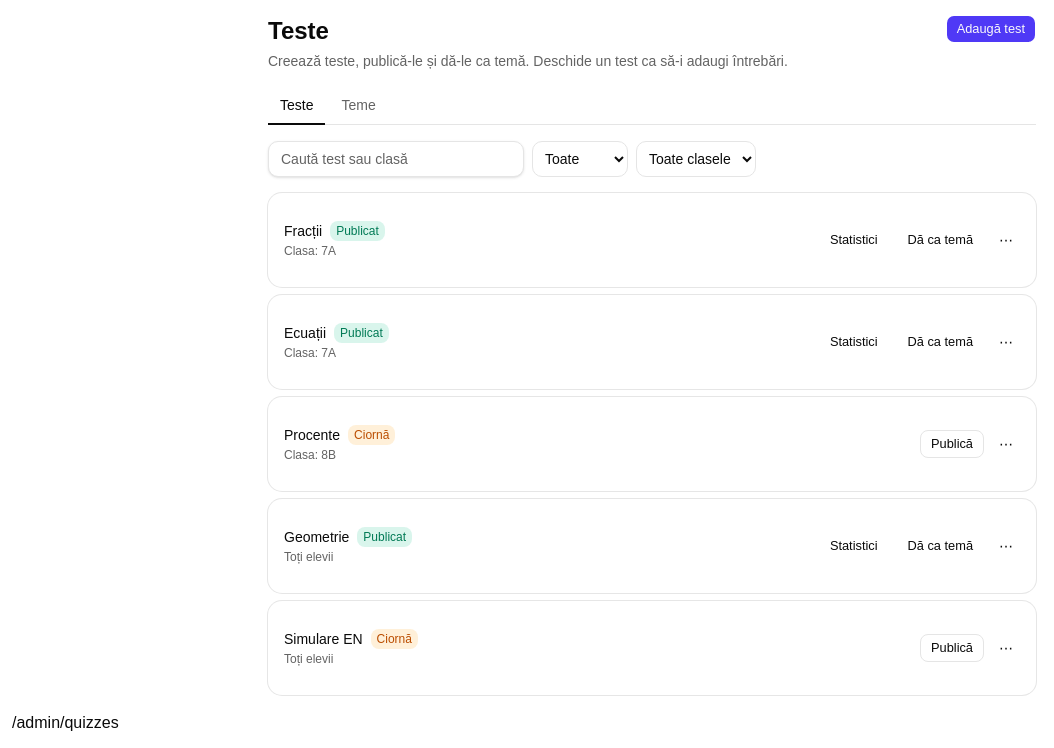
Test: AdminQuizzesPage › searches and filters the list once there are five tests
Expected: the link "Fracții" is shown, top-left (284, 221), bottom-right (322, 241)
Select "Ciorne" in the dropdown named "Stare": (580, 159) top-left (532, 141), bottom-right (628, 177)
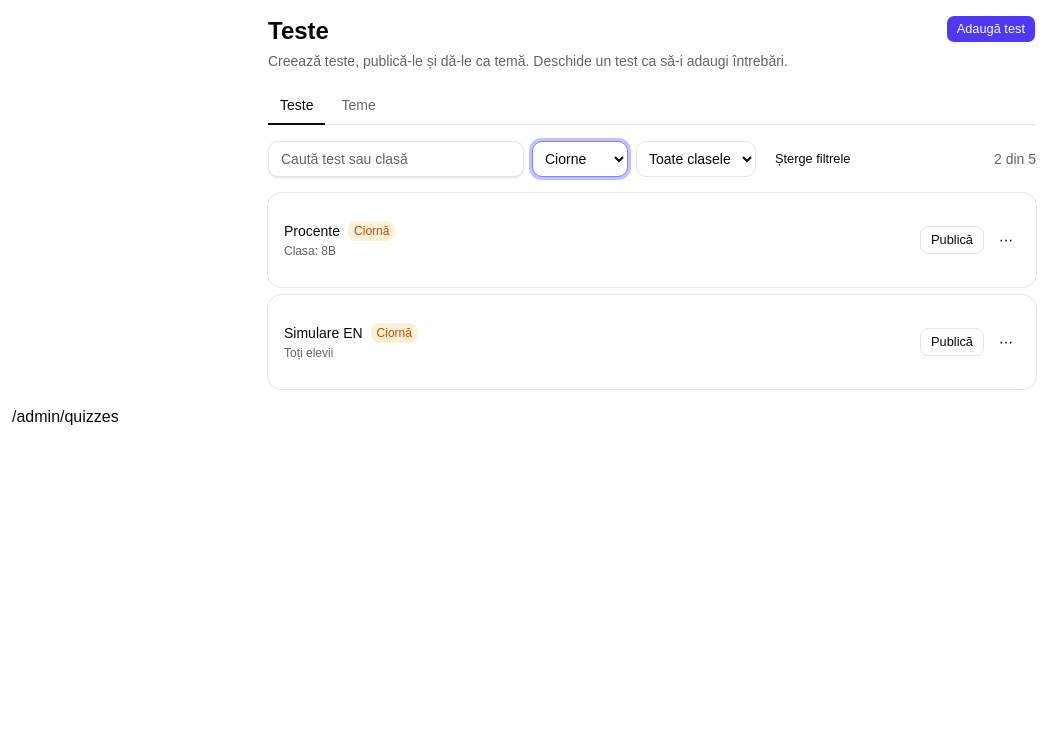
Expected: the number of elements with test id "quiz-row" is 2, top-left (284, 221), bottom-right (1020, 258); top-left (284, 323), bottom-right (1020, 360)
Select "8B" in the dropdown named "Clasa": (696, 159) top-left (636, 141), bottom-right (756, 177)
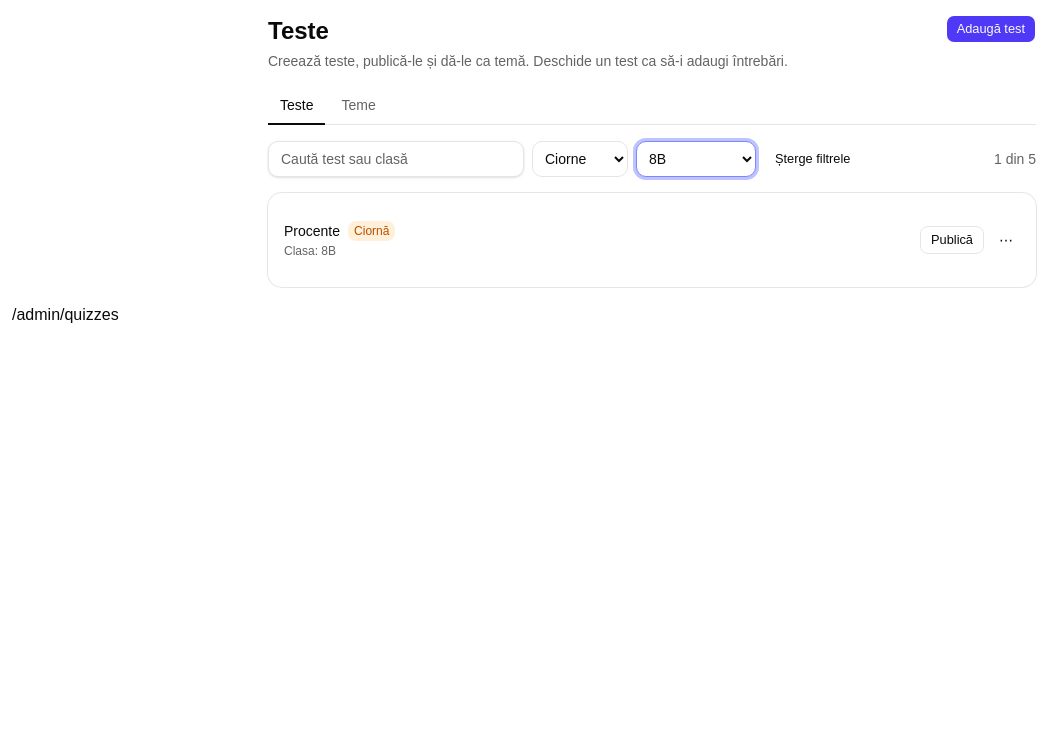
Expected: the link "Procente" is shown, top-left (284, 221), bottom-right (340, 241)
Expected: the number of elements with test id "quiz-row" is 1, top-left (284, 221), bottom-right (1020, 258)
Click the button "Șterge filtrele": (813, 159) top-left (764, 145), bottom-right (861, 173)
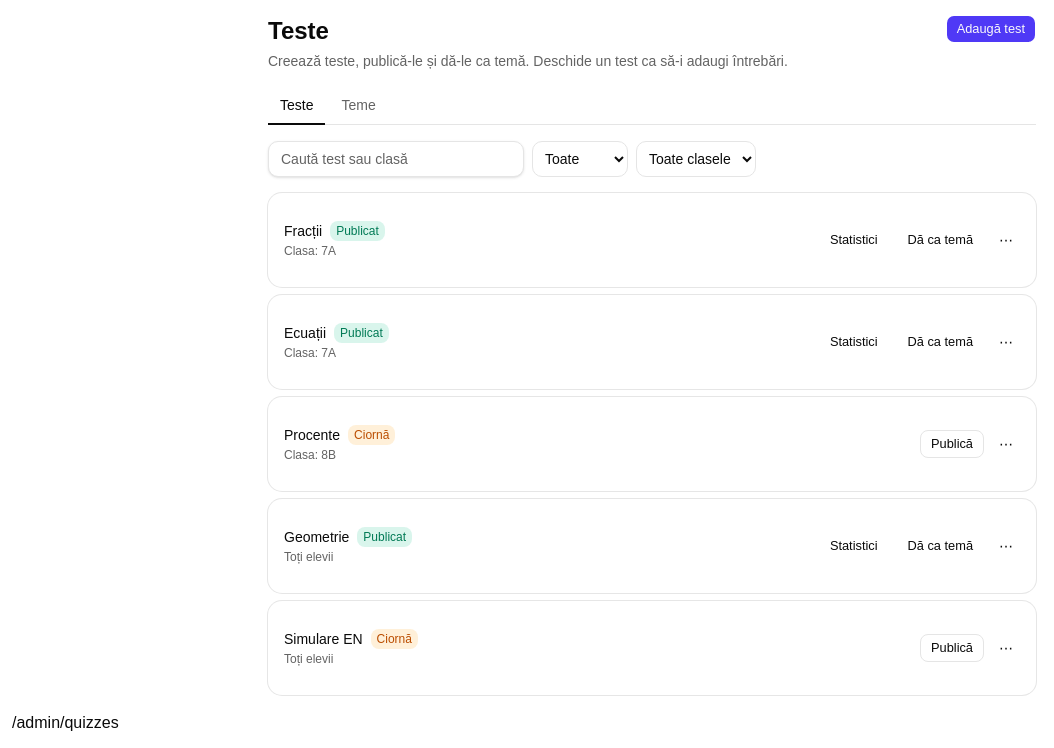
In the search field labelled "Caută test sau clasă": (396, 159) top-left (268, 141), bottom-right (524, 177), type "ecuatii"
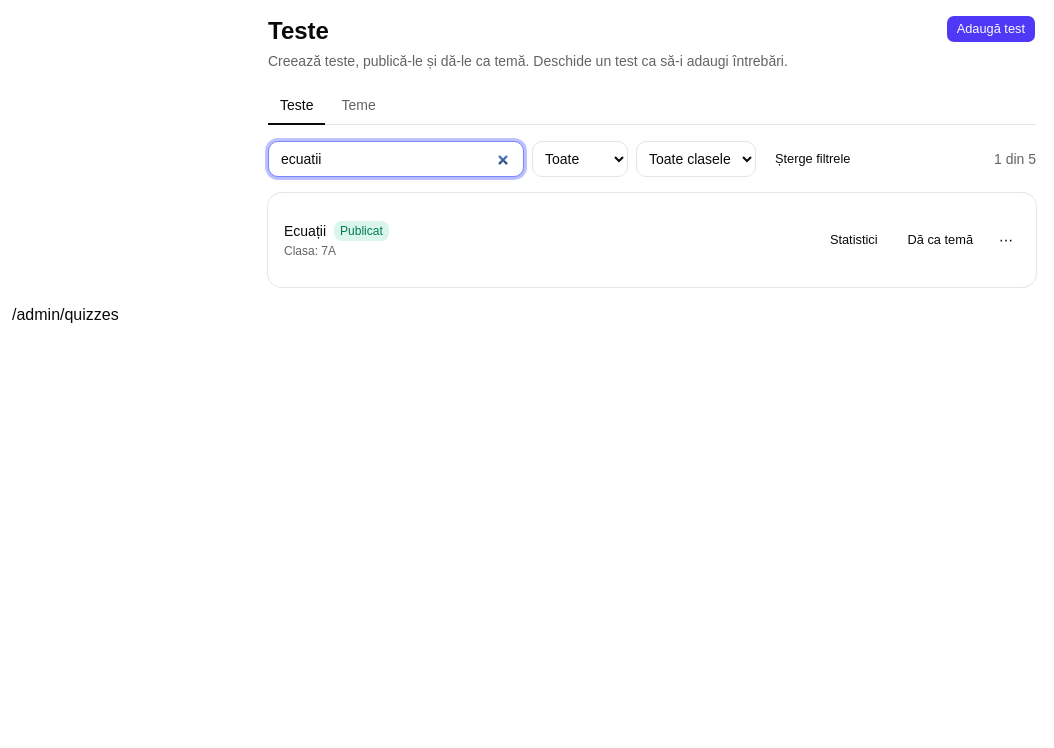
Expected: the number of elements with test id "quiz-row" is 1, top-left (284, 221), bottom-right (1020, 258)
Expected: the message reads "1 din 5", top-left (994, 151), bottom-right (1036, 167)
